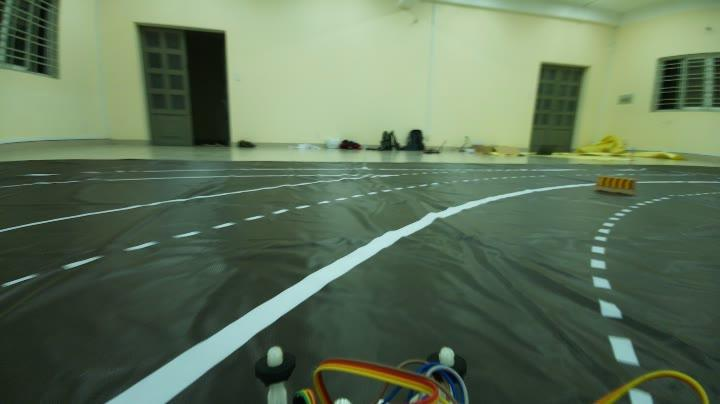roadblock: (594, 170, 641, 197)
